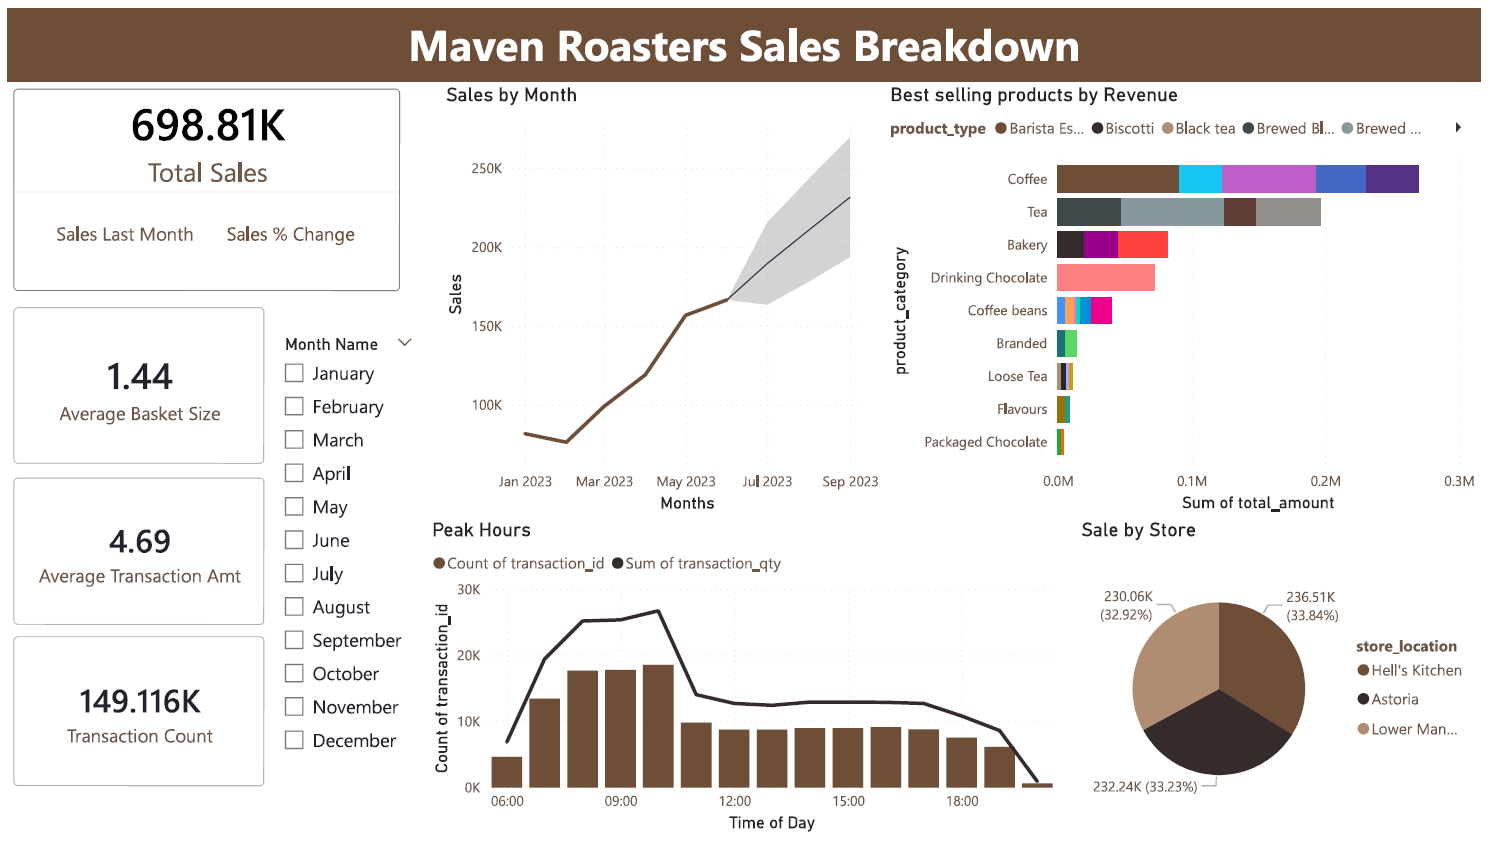

The dashboard page shown, as its layout file describes it:
{"tool":"powerbi","page":{"name":"Page 1","canvas":[1280,720],"ordinal":0},"visuals":[{"type":"cardVisual","fields":{"Data":["Sum(coffee-shop-sales-revenue.total_amount)"]},"box":[0,64,346,186],"z":0},{"type":"lineChart","title":"Sales by Month","fields":{"Y":["coffee-shop-sales-revenue.Current Sales"],"Category":["coffee-shop-sales-revenue.transaction_date (months)"]},"box":[376,64,386,378],"z":1000},{"type":"slicer","fields":{"Values":["Query1.Month Name"]},"box":[228,278,136,402],"z":2000},{"type":"pieChart","title":"Sale by Store","fields":{"Category":["coffee-shop-sales-revenue.store_location"],"Y":["Sum(coffee-shop-sales-revenue.total_amount)"]},"box":[928,442,352,278],"z":3000},{"type":"barChart","title":"Best selling products by Revenue","fields":{"Category":["coffee-shop-sales-revenue.product_category","coffee-shop-sales-revenue.product_detail"],"Y":["Sum(coffee-shop-sales-revenue.total_amount)"],"Series":["coffee-shop-sales-revenue.product_type"]},"box":[762,64,518,378],"z":4000},{"type":"cardVisual","fields":{"Data":["Avg(coffee-shop-sales-revenue.transaction_qty)"]},"box":[0,254,228,146],"z":5000},{"type":"cardVisual","fields":{"Data":["Avg(coffee-shop-sales-revenue.total_amount)"]},"box":[0,402,228,138],"z":6000},{"type":"textbox","box":[0,0,1280,63.3],"z":7000},{"type":"lineStackedColumnComboChart","title":"Peak Hours","fields":{"Category":["coffee-shop-sales-revenue.transaction_time (bins-Hours)"],"Y":["CountNonNull(coffee-shop-sales-revenue.transaction_id)"],"Y2":["Sum(coffee-shop-sales-revenue.transaction_qty)"]},"box":[364,442,552,278],"z":7001},{"type":"cardVisual","fields":{"Data":["CountNonNull(coffee-shop-sales-revenue.transaction_id)"]},"box":[0,540,228,140],"z":7002}]}

Visuals, with their boxes in screenshot pixels (x1, y1, x2, y2), scaled from the page's 1280x720 canvas onto the 1492x849 screenshot:
cardVisual - Sum(coffee-shop-sales-revenue.total_amount): x1=0 y1=75 x2=403 y2=295
"Sales by Month" lineChart: x1=438 y1=75 x2=888 y2=521
slicer - Query1.Month Name: x1=266 y1=328 x2=424 y2=802
"Sale by Store" pieChart: x1=1082 y1=521 x2=1491 y2=848
"Best selling products by Revenue" barChart: x1=888 y1=75 x2=1491 y2=521
cardVisual - Avg(coffee-shop-sales-revenue.transaction_qty): x1=0 y1=300 x2=266 y2=472
cardVisual - Avg(coffee-shop-sales-revenue.total_amount): x1=0 y1=474 x2=266 y2=637
textbox: x1=0 y1=0 x2=1491 y2=75
"Peak Hours" lineStackedColumnComboChart: x1=424 y1=521 x2=1068 y2=848
cardVisual - CountNonNull(coffee-shop-sales-revenue.transaction_id): x1=0 y1=637 x2=266 y2=802
